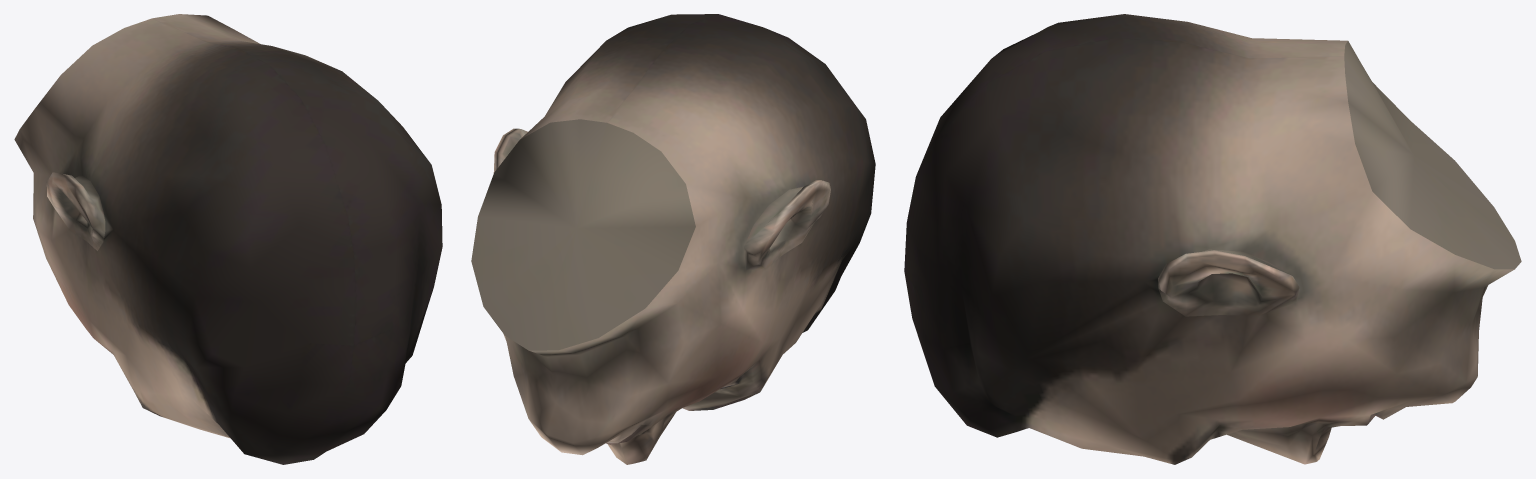
The model's file is dest_nt_nuked_male_03_head_LOD1.obj.
3 renders of one model, left to right at view 1: azimuth 30°, elevation 25°; view 2: azimuth 150°, elevation 25°; view 3: azimuth 270°, elevation 25°, orthographic. The views are drawn at different scales.
Parts seen in each view (by area): view 1: mtl_nt_2020_manne_male01_head1; view 2: mtl_nt_2020_manne_male01_head1; view 3: mtl_nt_2020_manne_male01_head1.
Boxes of the visible parts, x1=… form: mtl_nt_2020_manne_male01_head1: x1=14, y1=14, x2=442, y2=464; mtl_nt_2020_manne_male01_head1: x1=471, y1=14, x2=875, y2=464; mtl_nt_2020_manne_male01_head1: x1=904, y1=14, x2=1521, y2=464.
Size of the model in its own units: 19.33 by 22.59 by 28.8.
